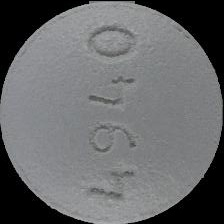53808-1023: (0, 0, 224, 224)
